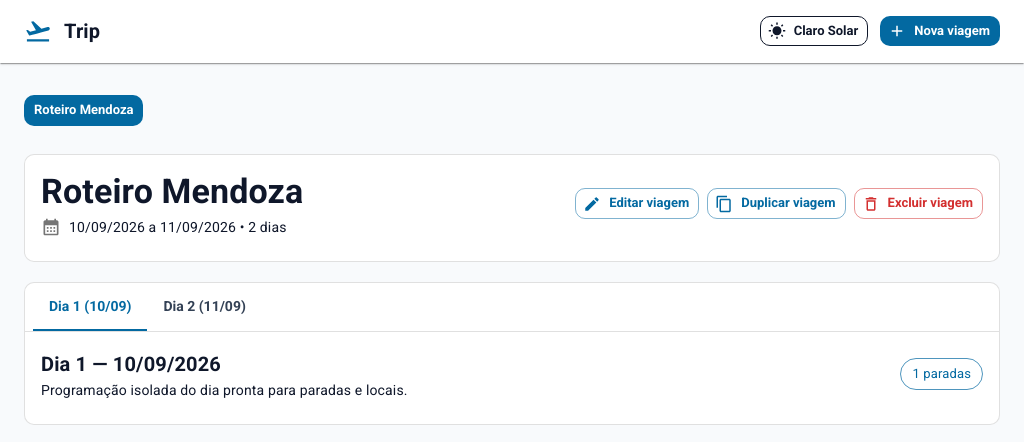
Scenario: App integration — Issue 01: themes, trip management, day strip, and persistence › duplicates the active Trip resetting all completed flags to false
Click the button "Duplicar viagem".
click(776, 204)  # box [707,188,846,219]
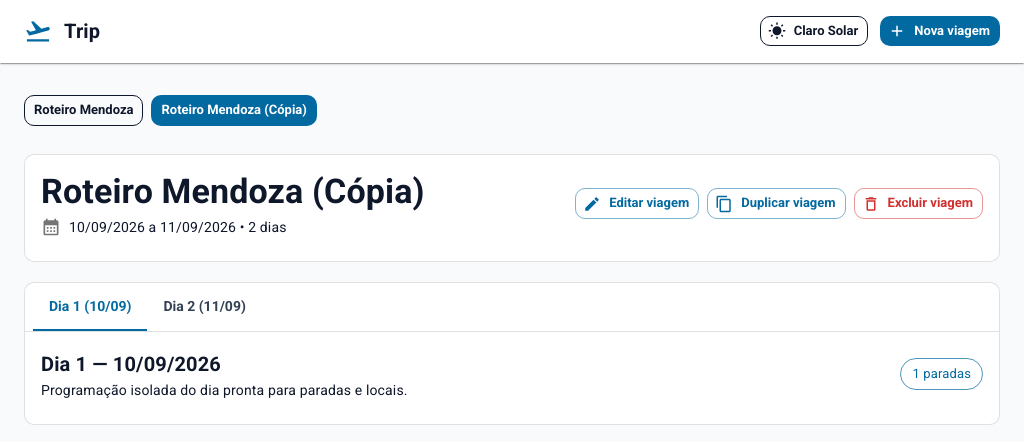
Expected: the heading "Roteiro Mendoza (Cópia)" is shown, [41,171,425,213]
